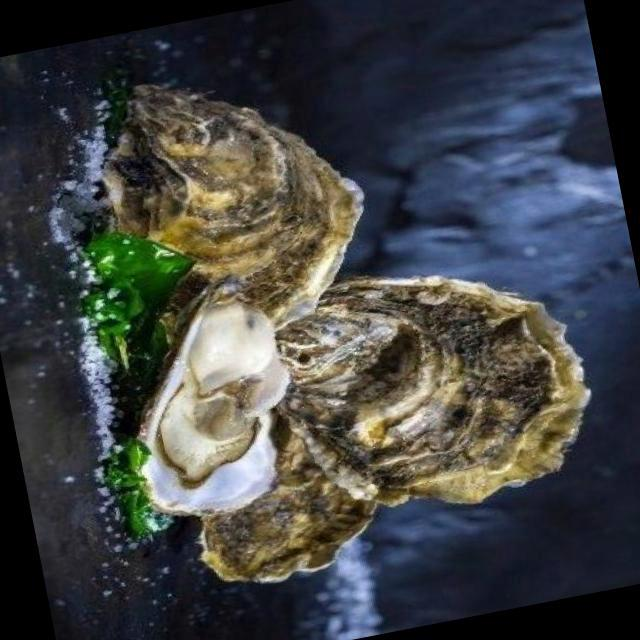Oyster-Closed: (276, 274, 590, 504), (101, 84, 367, 330), (200, 402, 380, 584)
Oyster-Open: (132, 280, 290, 518)
